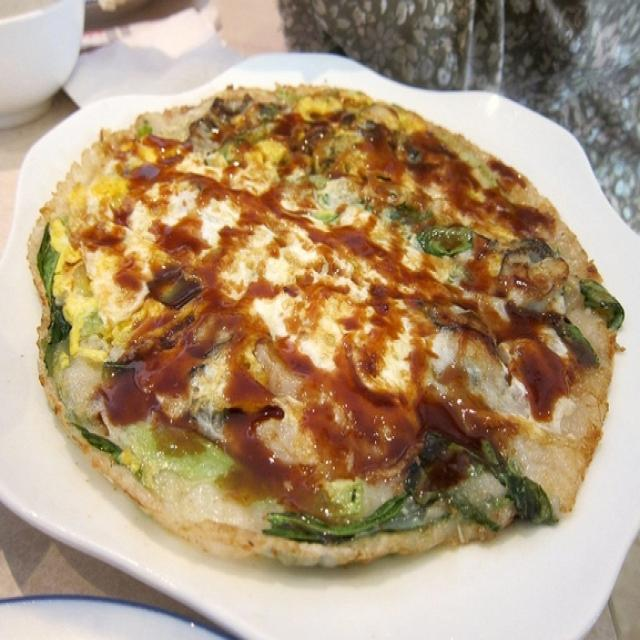熟制海鲜: (41, 61, 609, 584)
